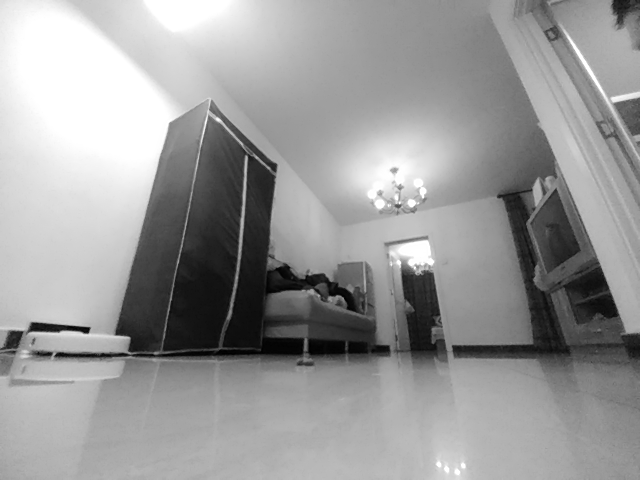curtain: (500, 194, 567, 357), (398, 269, 445, 349)
pet feces: (295, 356, 317, 368)
